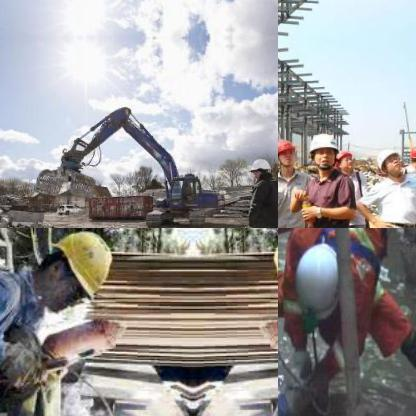Helmet: (36, 228, 121, 300), (297, 240, 345, 320), (306, 132, 336, 170), (263, 228, 277, 301), (376, 147, 404, 177), (278, 135, 299, 171), (248, 156, 268, 178), (336, 148, 354, 172), (406, 141, 415, 174)
